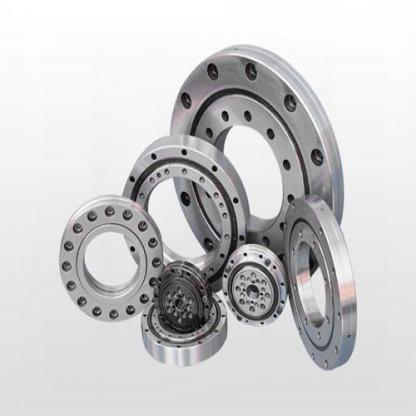FOD: (286, 194, 360, 373)
